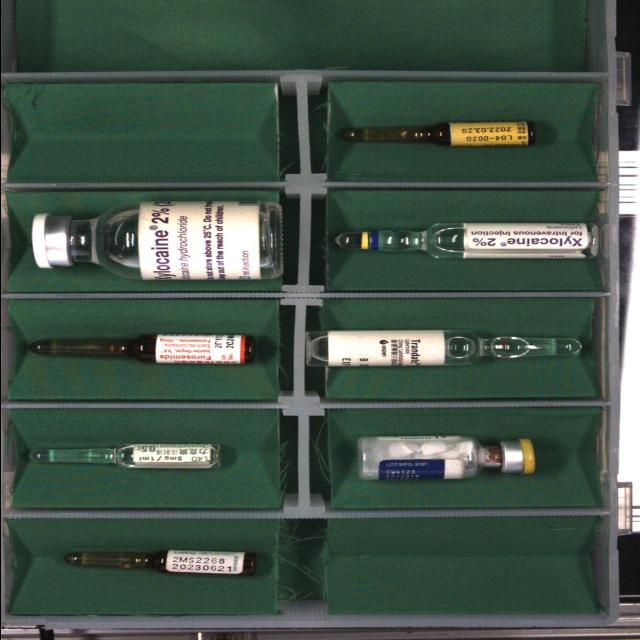Vials: (31, 201, 282, 280), (129, 201, 282, 280), (357, 436, 535, 480), (357, 436, 534, 479), (31, 213, 137, 268), (330, 331, 444, 352)
